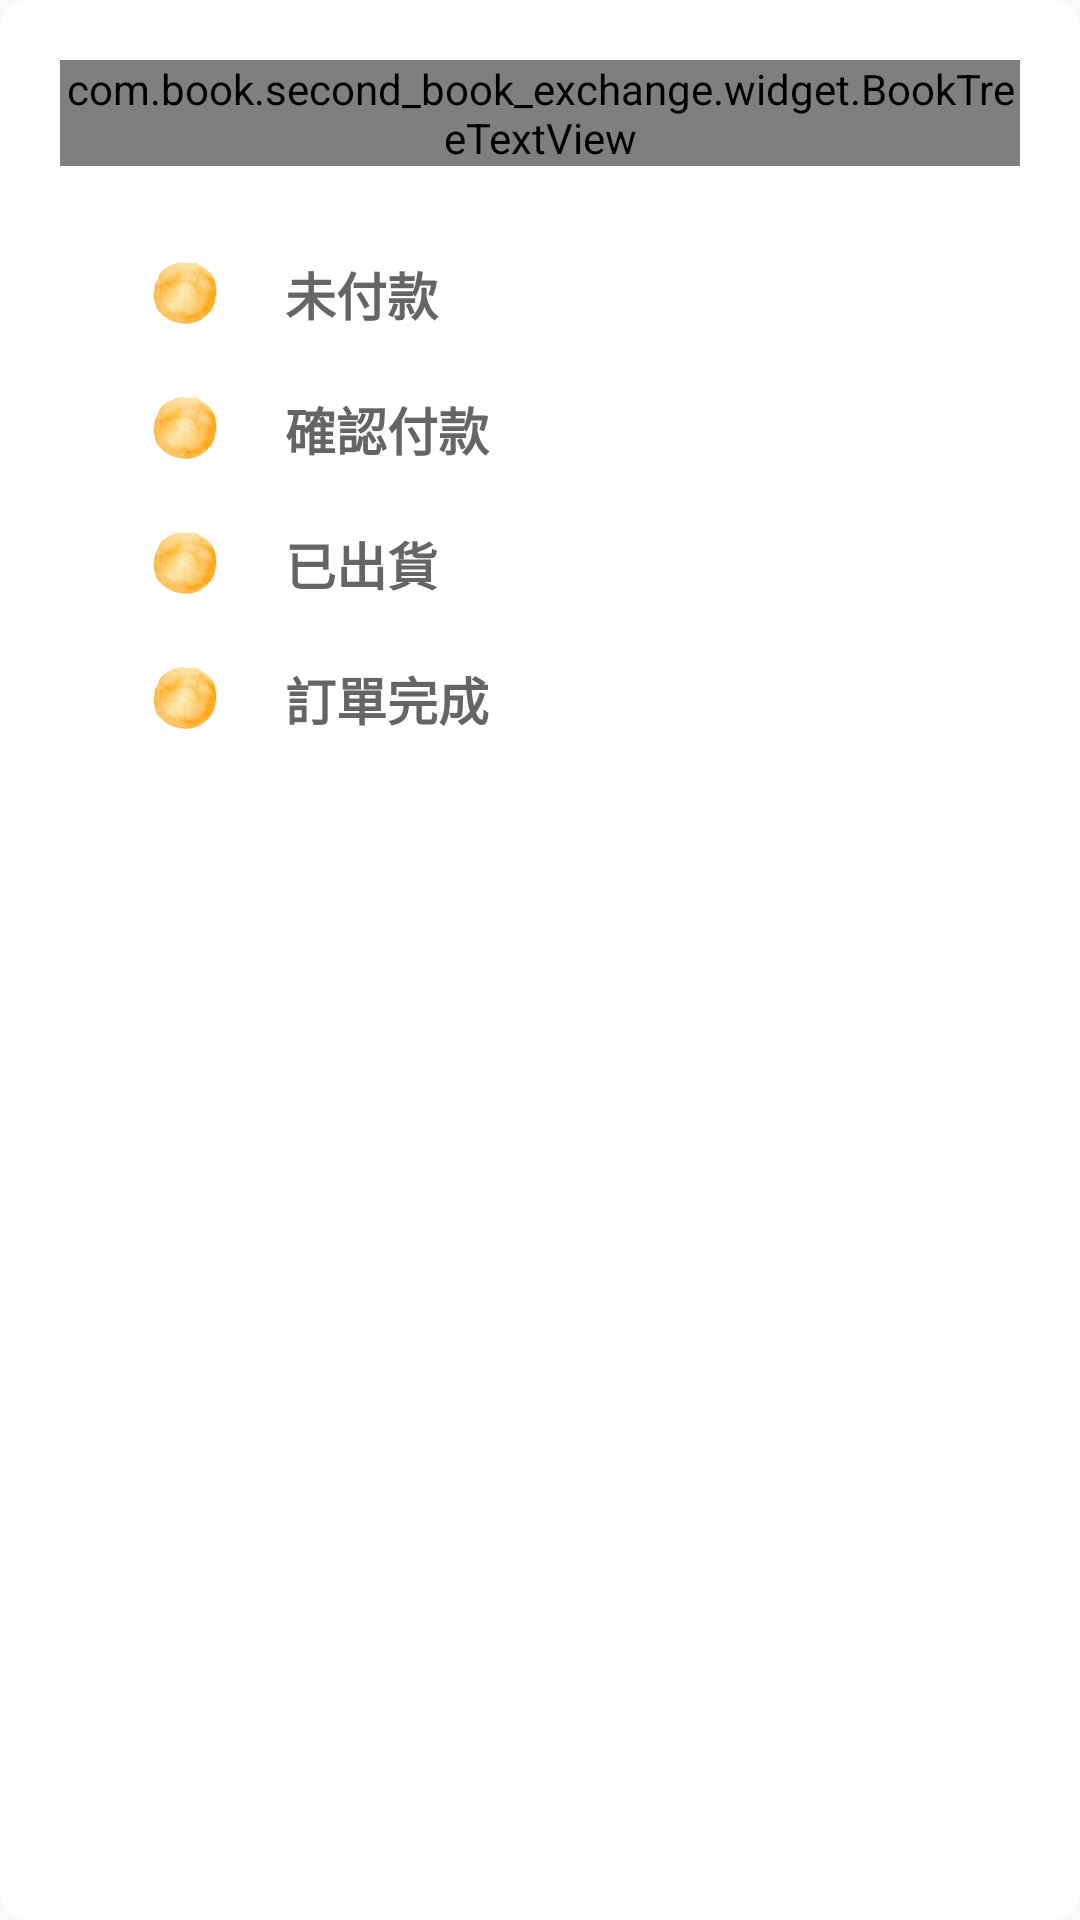

Icon click points for this 1080 × 1920 phone screenshot, format (x=x, y=y):
yellowdot: (x=185, y=293), (x=185, y=428), (x=185, y=563), (x=185, y=698)
